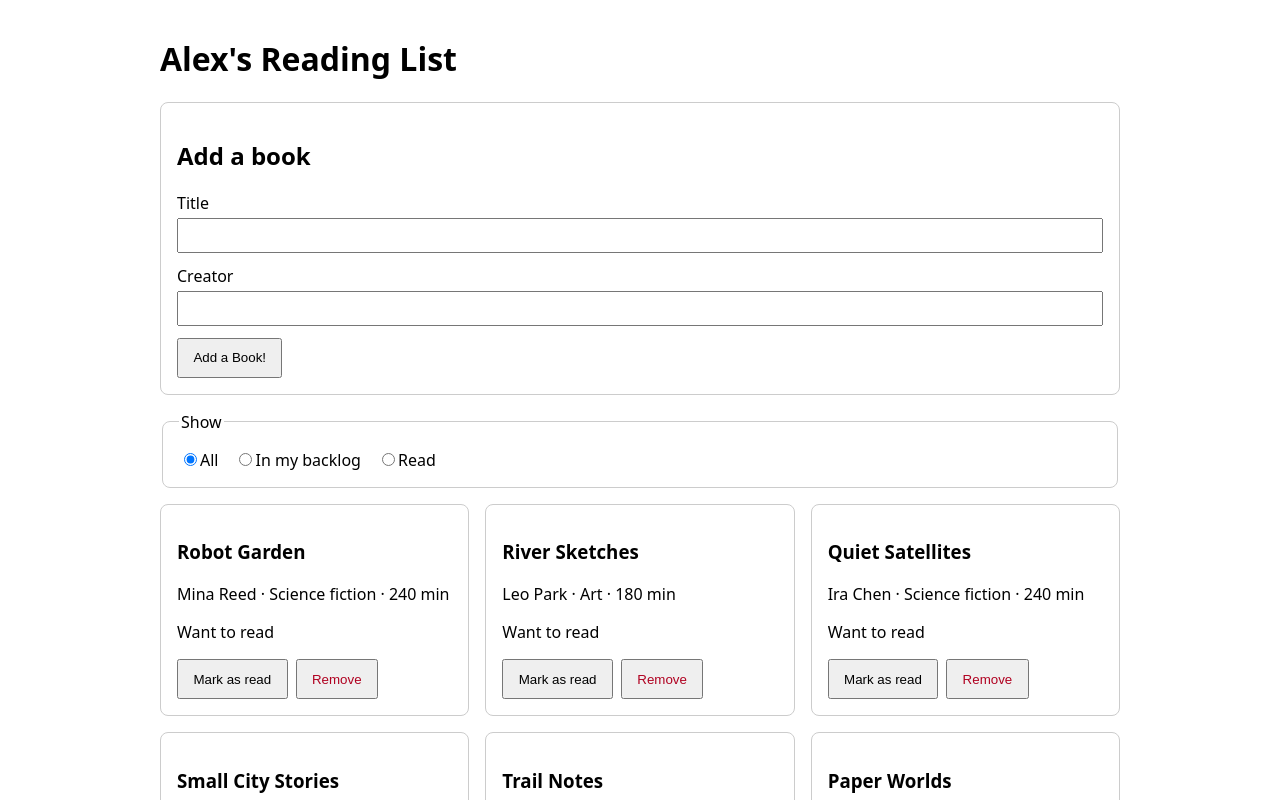
Test: removes only the chosen book
What coordinates should you click on to do the following:
click the button with aria-label "Remove Robot Garden"
I would click on:
 (337, 679)
Its box is [296,659,378,699].
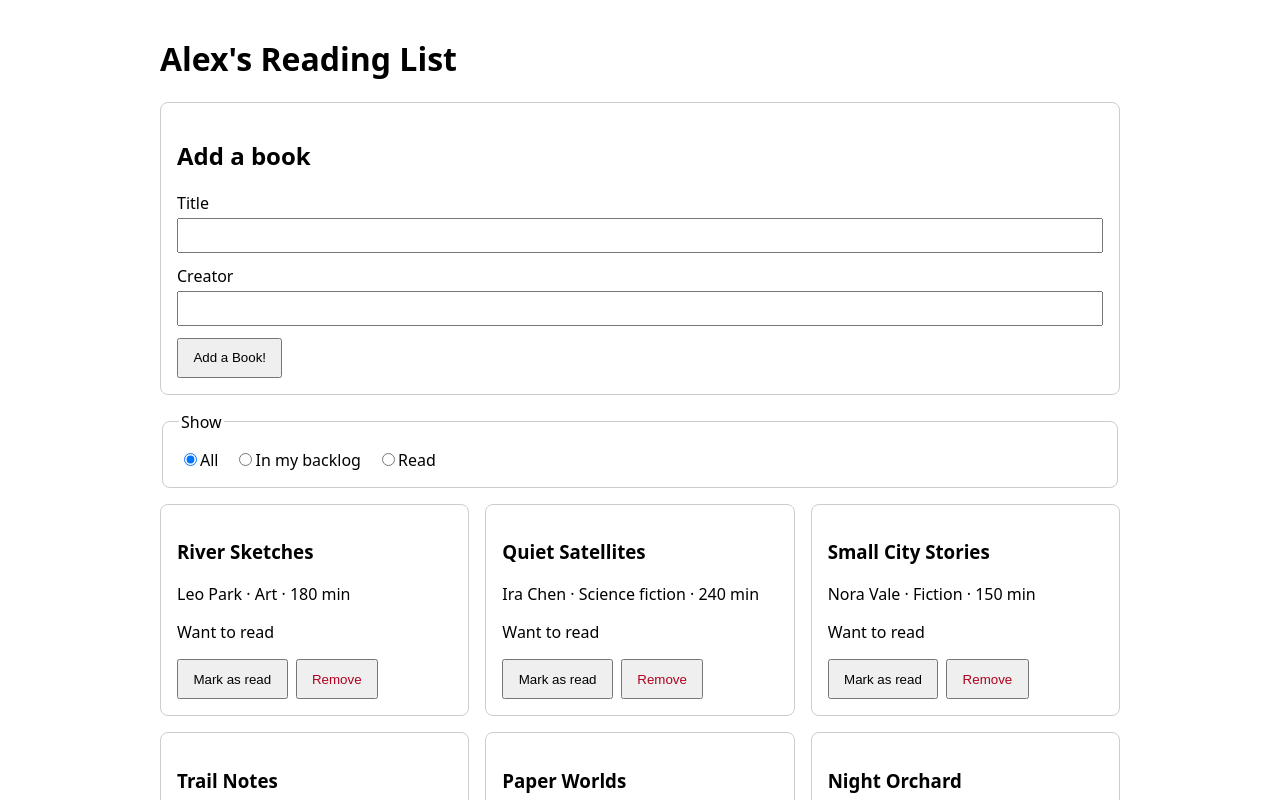
Result: the heading "Robot Garden" is gone
Result: the number of list items is 7
